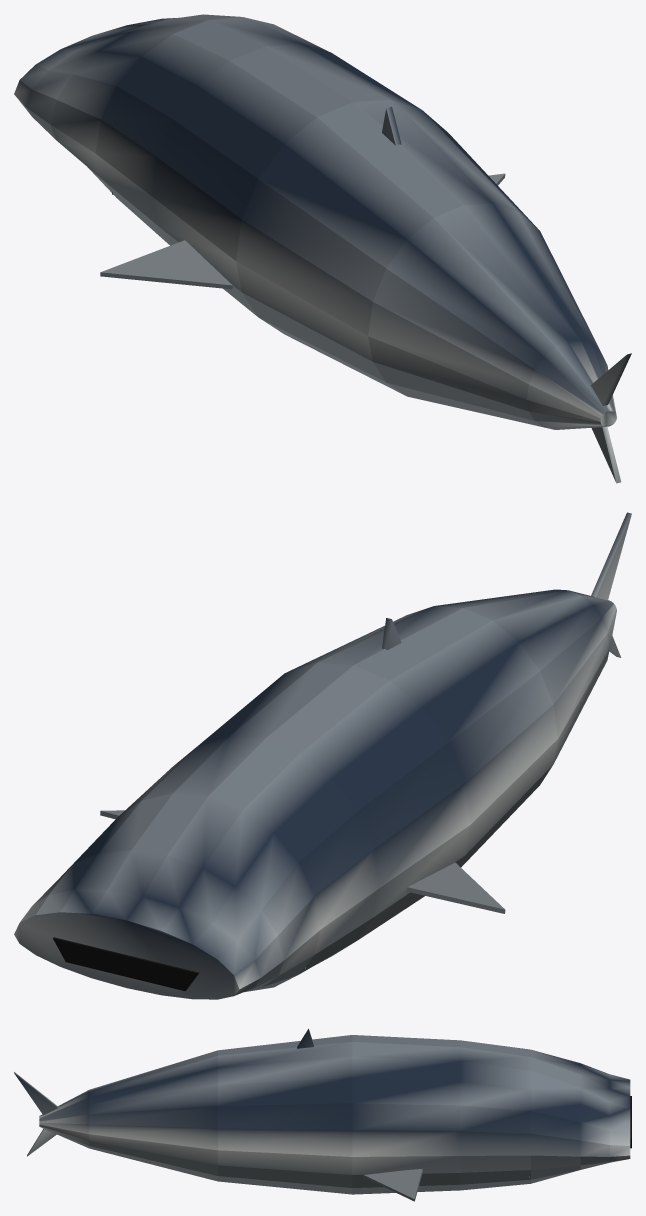
The model's file is whaleshark.glb.
3 views of the same model, one above another, from view 1: azimuth 30°, elevation 25°; view 2: azimuth 150°, elevation 25°; view 3: azimuth 270°, elevation 25° (orthographic). The views are drawn at different scales.
Visible parts, largest first — view 1: whaleshark_male; view 2: whaleshark_male; view 3: whaleshark_male.
Part boxes in pixels (x1,y1,x2,y2): whaleshark_male: [14, 14, 631, 483]; whaleshark_male: [14, 512, 631, 999]; whaleshark_male: [14, 1028, 631, 1201].
Bounding box in the file's own units: 4.9 × 2.96 × 10.56.
